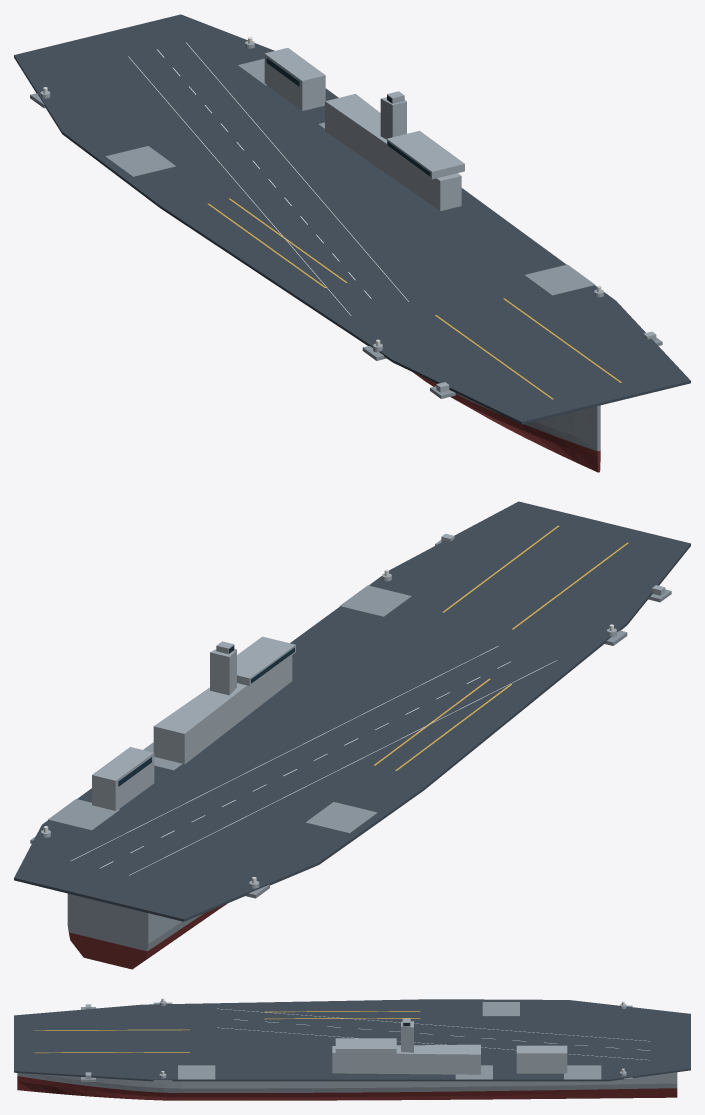
File: ran_cvn_southern_cross_2009.obj
3 renders of one model, top to bottom at view 1: azimuth 30°, elevation 25°; view 2: azimuth 150°, elevation 25°; view 3: azimuth 270°, elevation 25°, orthographic. The views are drawn at different scales.
Parts seen in each view (by area): view 1: FlightDeck, Island, AviationIsland, UnderwaterHull, Hull, Bridge, Elevator_1, Elevator_4, IntegratedMast; view 2: FlightDeck, Island, Hull, AviationIsland, UnderwaterHull, Bridge, Elevator_1, Elevator_4, Elevator_3, IntegratedMast; view 3: FlightDeck, Hull, UnderwaterHull, Island, AviationIsland, Bridge, Elevator_1, Elevator_4, Elevator_3, IntegratedMast, Elevator_2, LandingEdge_-1 (+3 smaller).
Boxes of the visible parts, <box> form: FlightDeck: <box>14,14,690,424</box>; Island: <box>325,94,461,210</box>; AviationIsland: <box>264,48,325,110</box>; UnderwaterHull: <box>413,372,600,472</box>; Hull: <box>455,393,600,451</box>; Bridge: <box>387,130,464,179</box>; Elevator_1: <box>524,264,594,295</box>; Elevator_4: <box>105,146,176,176</box>; IntegratedMast: <box>380,97,406,139</box>; FlightDeck: <box>14,501,690,921</box>; Island: <box>153,655,292,764</box>; Hull: <box>67,893,203,951</box>; AviationIsland: <box>92,747,154,810</box>; UnderwaterHull: <box>68,903,227,969</box>; Bridge: <box>237,636,295,685</box>; Elevator_1: <box>340,585,411,616</box>; Elevator_4: <box>305,802,377,833</box>; Elevator_3: <box>48,799,119,830</box>; IntegratedMast: <box>210,648,236,695</box>; FlightDeck: <box>14,999,690,1081</box>; Hull: <box>17,1072,677,1092</box>; UnderwaterHull: <box>17,1076,677,1100</box>; Island: <box>332,1044,480,1074</box>; AviationIsland: <box>516,1045,567,1073</box>; Bridge: <box>335,1038,396,1054</box>; Elevator_1: <box>178,1065,215,1079</box>; Elevator_4: <box>482,1002,519,1016</box>; Elevator_3: <box>564,1065,601,1079</box>; IntegratedMast: <box>401,1021,413,1052</box>; Elevator_2: <box>455,1065,492,1079</box>; LandingEdge_-1: <box>217,1008,649,1041</box>.
Size of the model in its own units: 102 by 58.2 by 363.
